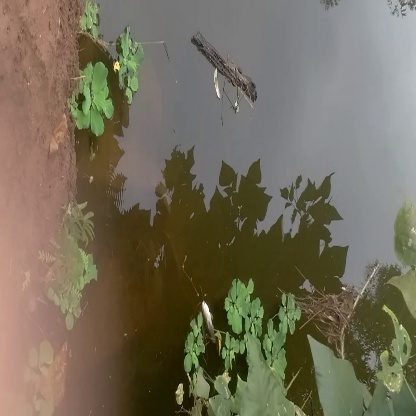branch: (191, 28, 268, 112)
